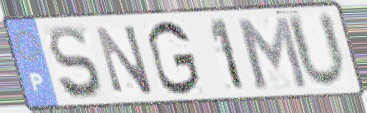1: (208, 16, 247, 95)
G: (145, 19, 203, 98)
M: (232, 15, 311, 92)
N: (92, 22, 157, 97)
S: (46, 23, 104, 102)
U: (283, 9, 350, 92)
